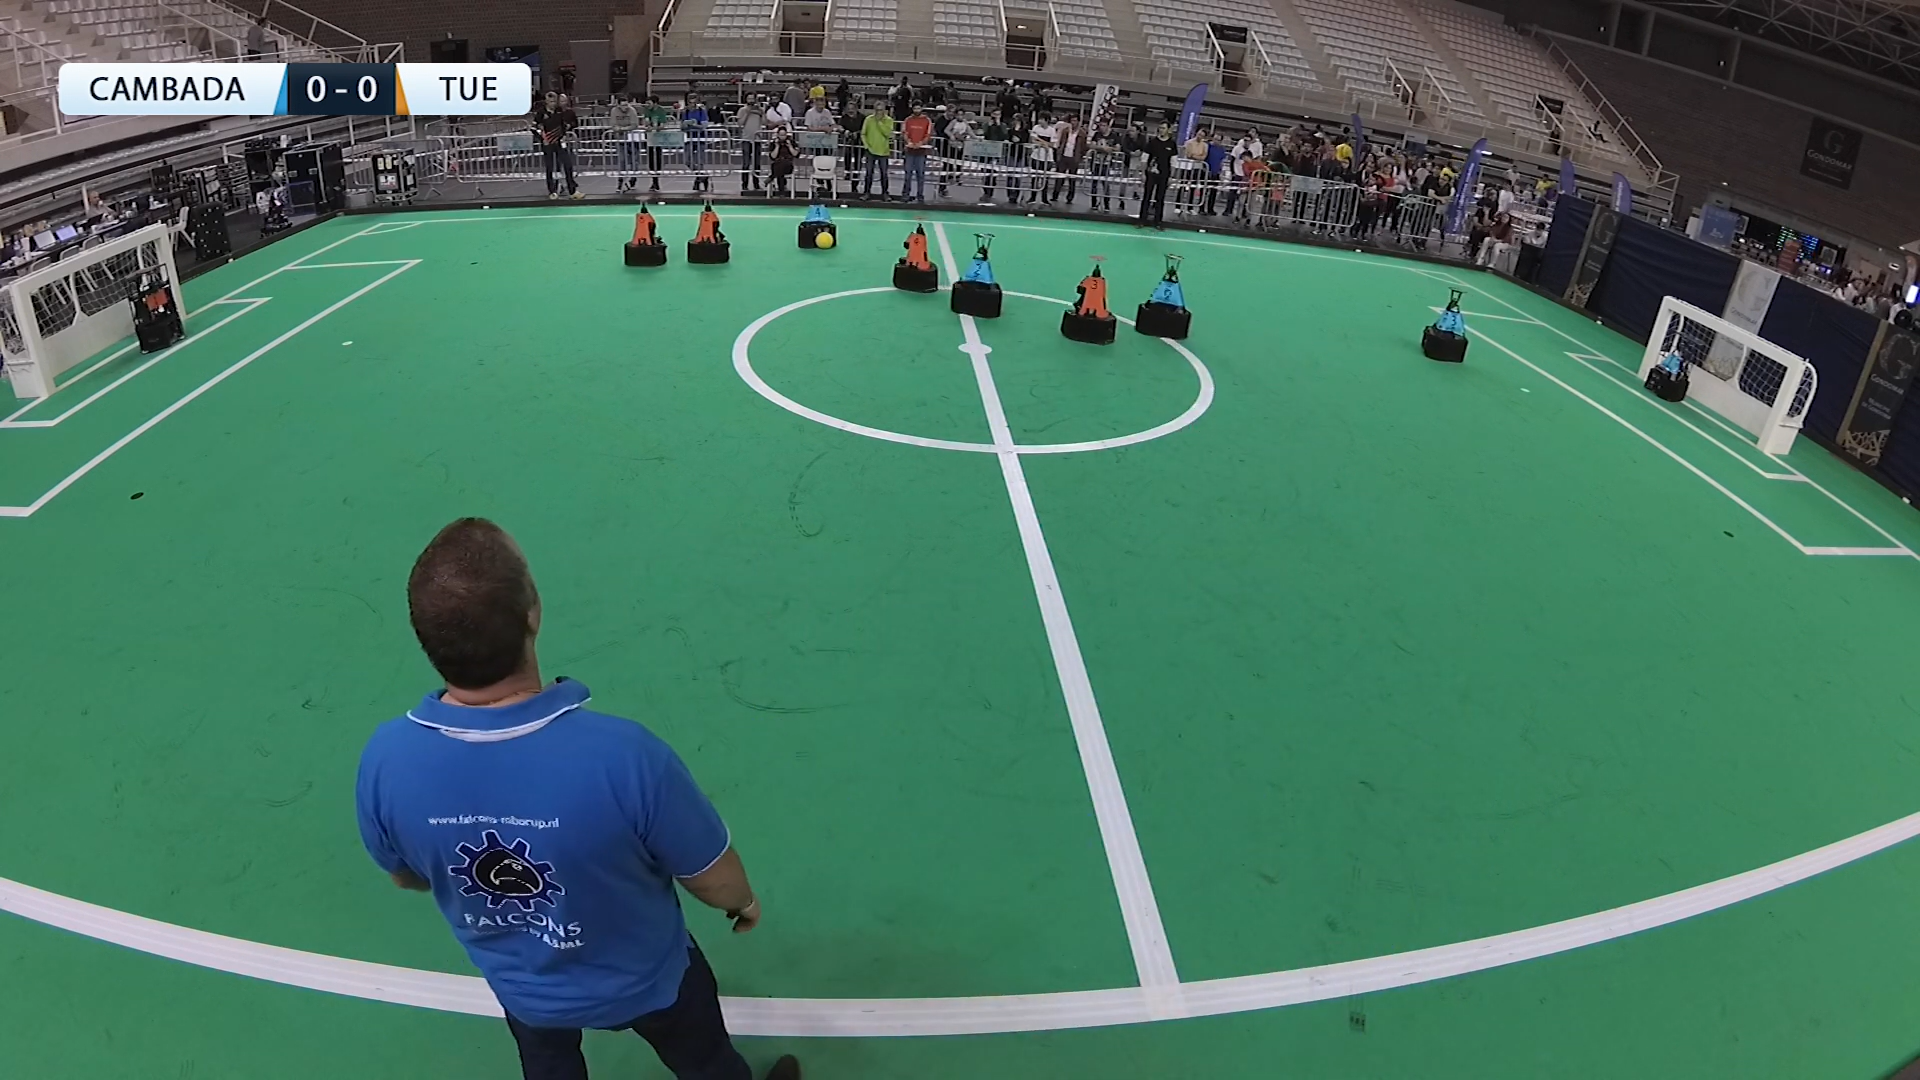BALL: (812, 229, 836, 251)
BLUE2: (947, 227, 1005, 315)
BLUE3: (1407, 290, 1474, 356)
BLUE4: (789, 185, 843, 255)
BLUE5: (1130, 251, 1197, 342)
B_Goalie: (1633, 334, 1700, 404)
RED2: (676, 187, 733, 269)
RED3: (1040, 247, 1116, 349)
RED4: (885, 214, 943, 297)
RED5: (620, 190, 666, 278)
R_Goalie: (128, 262, 183, 375)
Referee: (311, 517, 800, 1080)
